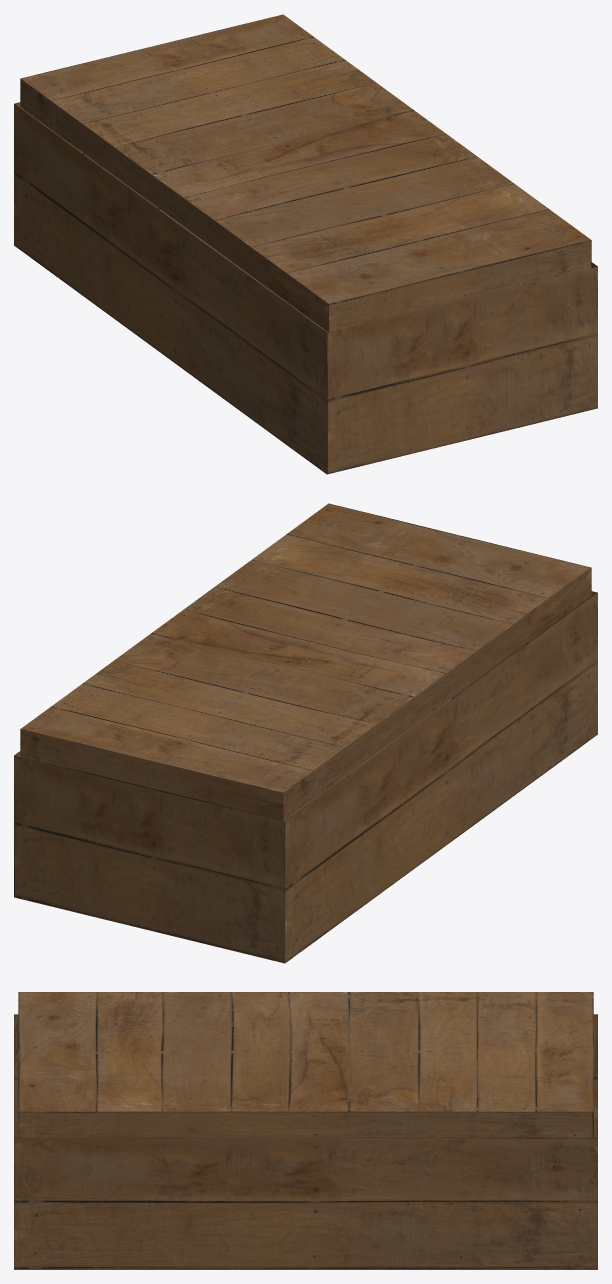
The model's file is CajaMadera.fbx.
The picture shows the model from 3 angles, top to bottom: view 1: azimuth 30°, elevation 25°; view 2: azimuth 150°, elevation 25°; view 3: azimuth 270°, elevation 25°; orthographic projection. The views are drawn at different scales.
Visible parts, largest first — view 1: CajaMadera; view 2: CajaMadera; view 3: CajaMadera.
Boxes of the visible parts, bbox=[...] form: CajaMadera: bbox=[14, 14, 597, 474]; CajaMadera: bbox=[14, 503, 597, 963]; CajaMadera: bbox=[14, 992, 597, 1269].
Bounding box in the file's own units: 200 × 118 × 400.
